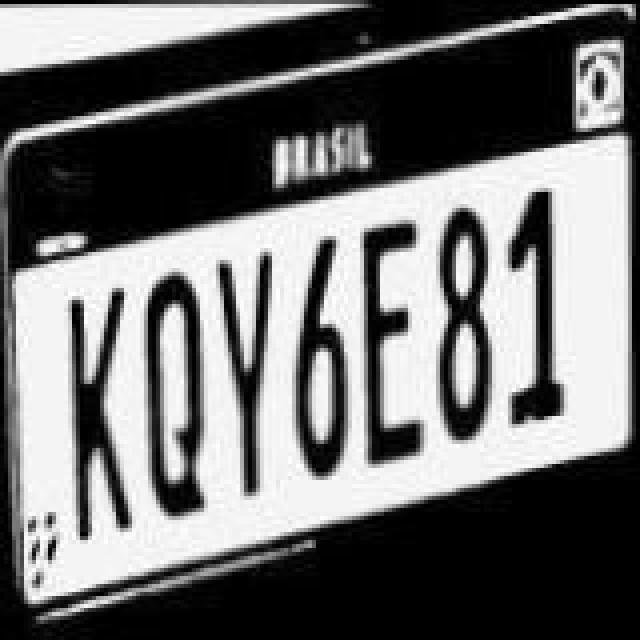1: (496, 182, 576, 442)
6: (284, 232, 356, 492)
8: (428, 194, 500, 454)
E: (354, 206, 430, 474)
K: (64, 278, 140, 546)
Q: (142, 262, 214, 522)
Y: (208, 242, 280, 502)
